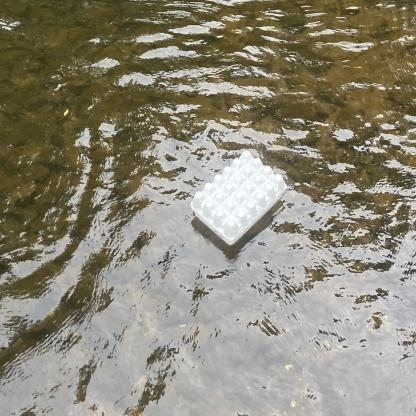trash: (188, 139, 290, 249)
